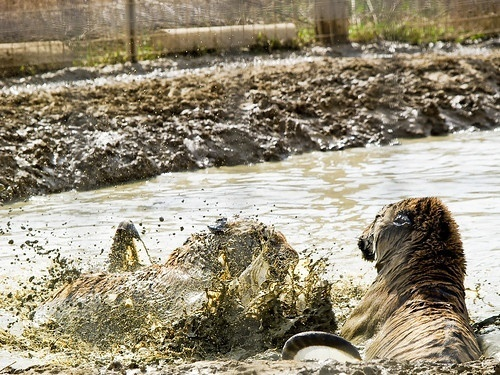tigre: (29, 211, 301, 320), (335, 194, 488, 369)
